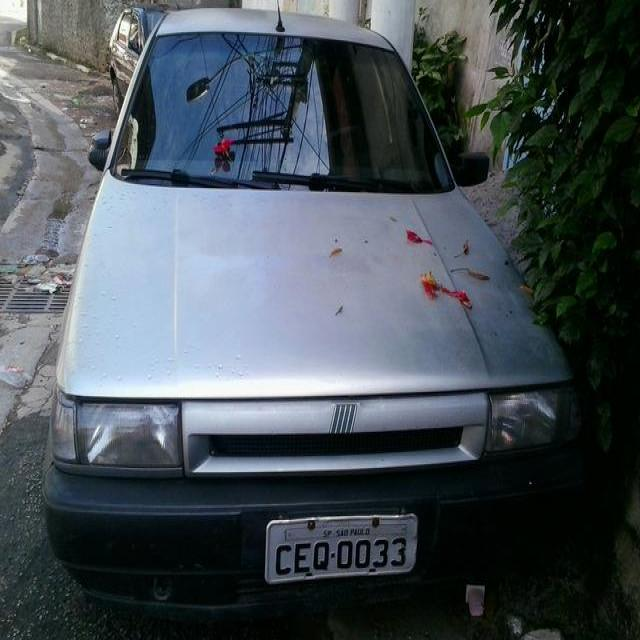Placa: (260, 515, 421, 588)
